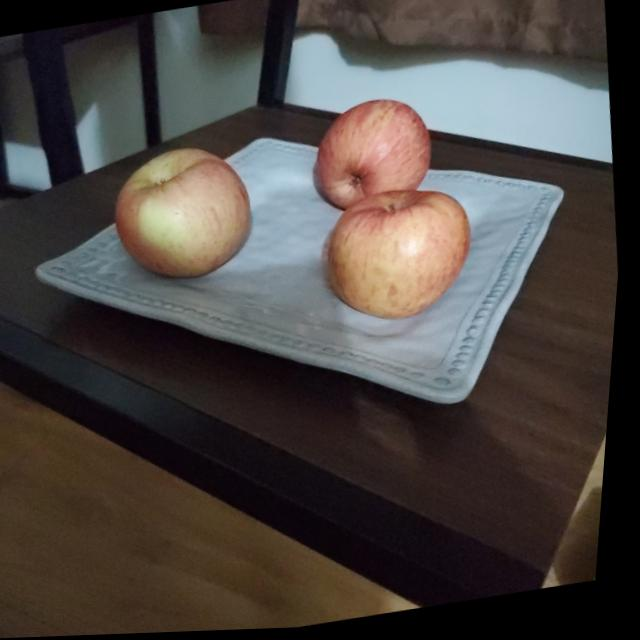apple: (316, 179, 488, 335), (107, 139, 269, 288), (305, 92, 442, 220)
